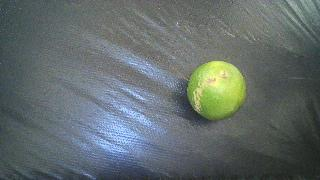DESECHO: (187, 61, 246, 120)
